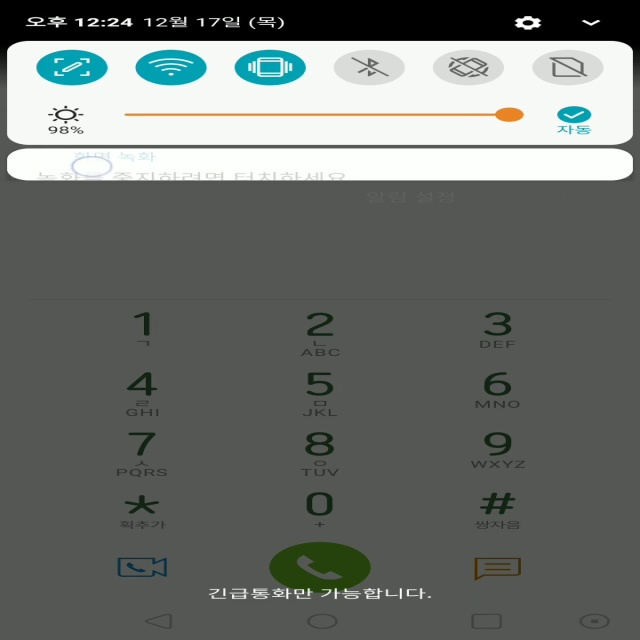Cursor: (71, 155, 115, 177)
